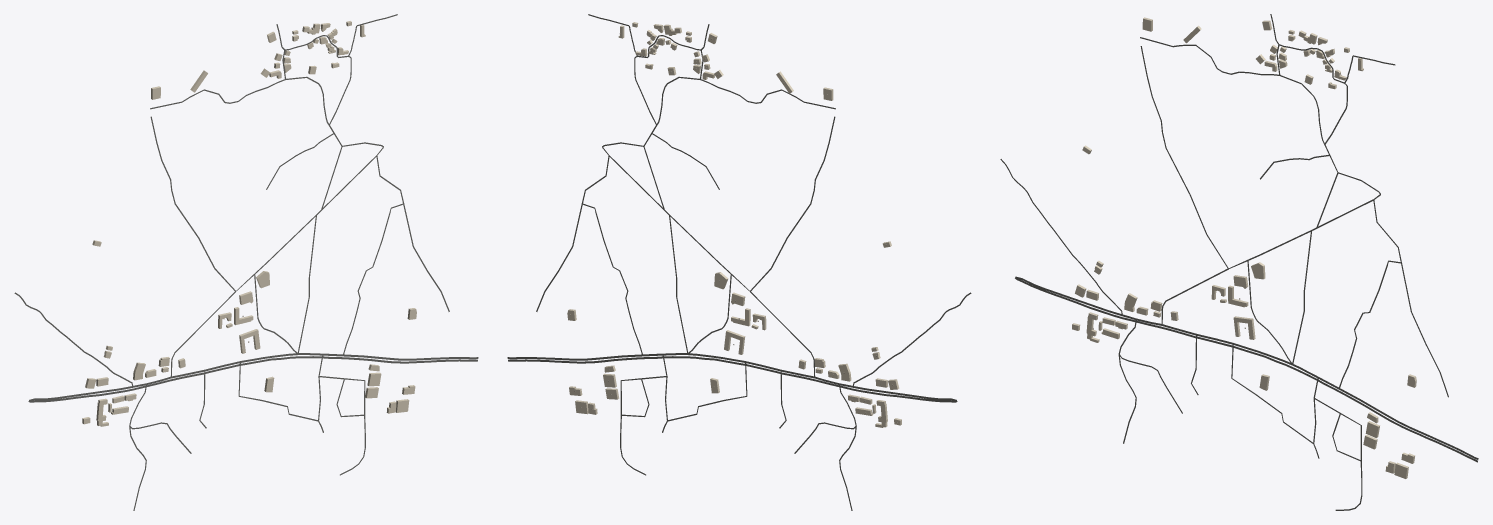
File: historic-palestine-10_24_3519_3185.glb
3 views of the same model, side by side, from view 1: azimuth 30°, elevation 25°; view 2: azimuth 150°, elevation 25°; view 3: azimuth 330°, elevation 25° (orthographic). The views are drawn at different scales.
Parts seen in each view (by area): view 1: Road .023, Road, Road .008; view 2: Road .023, Road, Road .008; view 3: Road, Road .023, Road .008.
Part boxes in pixels (bbox=[...]): Road .023: bbox=[28, 356, 477, 402]; Road: bbox=[29, 353, 478, 401]; Road .008: bbox=[150, 116, 376, 291]; Road .023: bbox=[508, 356, 957, 402]; Road: bbox=[507, 353, 956, 401]; Road .008: bbox=[609, 116, 835, 291]; Road: bbox=[1015, 276, 1478, 459]; Road .023: bbox=[1015, 277, 1477, 462]; Road .008: bbox=[1140, 46, 1373, 268].
Size of the model in its own units: 1239 by 1192 by 8.7.
